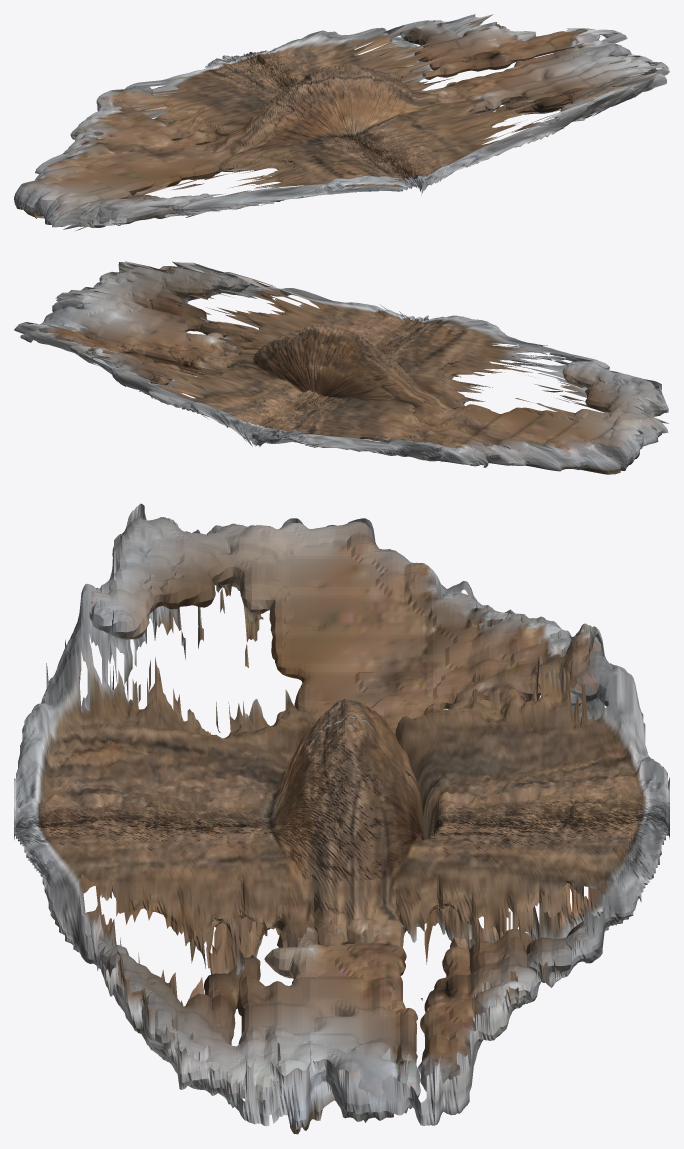
Rendered from mesh_inpaint.glb.
3 renders of one model, top to bottom at view 1: azimuth 30°, elevation 25°; view 2: azimuth 150°, elevation 25°; view 3: azimuth 270°, elevation 25°, orthographic. The views are drawn at different scales.
Parts seen in each view (by area): view 1: ipn, fill; view 2: ipn, fill; view 3: ipn, fill.
Part boxes in pixels (left/top/right/bottom): ipn: left=14, top=14, right=669, bottom=230; fill: left=22, top=20, right=653, bottom=227; ipn: left=14, top=261, right=668, bottom=474; fill: left=37, top=266, right=659, bottom=469; ipn: left=14, top=503, right=669, bottom=1134; fill: left=89, top=518, right=662, bottom=1118.
Bounding box in the file's own units: 1.99 × 0.3497 × 0.9423.
2 materials, 1 textured.
